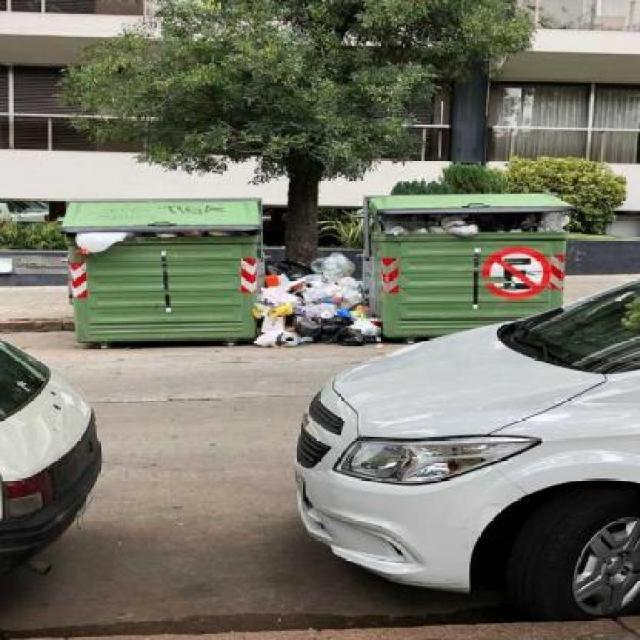garbage: (237, 248, 362, 350), (368, 214, 570, 234)
